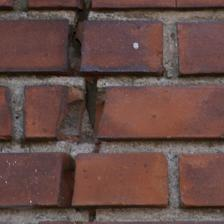Crack: (26, 2, 79, 210)
